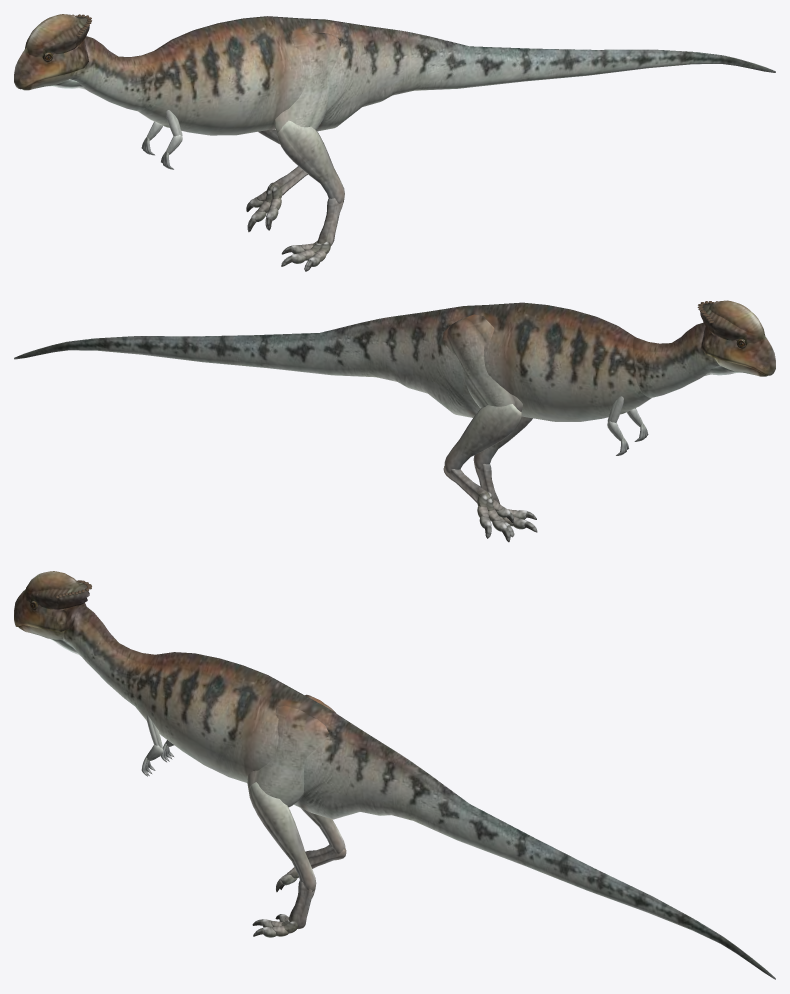
3 views of the same model, one above another, from view 1: azimuth 30°, elevation 25°; view 2: azimuth 150°, elevation 25°; view 3: azimuth 330°, elevation 25° (orthographic).
Visible parts, largest first — view 1: Component_16, Component_17, Component_15, Component_20, Component_21, Component_5, Component_22 (×2), SimpleDome02, Component_1; view 2: Component_16, Component_17, Component_15, Component_20, Component_21 (×2), Component_5, SimpleDome02, Component_22 (×2), Component_1; view 3: Component_16, Component_17, Component_20, Component_15, Component_21, Component_5, Component_1, SimpleDome02.
Boxes of the visible parts, left/top/right/bottom form: Component_16: left=138, top=16, right=401, bottom=135; Component_17: left=383, top=30, right=775, bottom=100; Component_15: left=70, top=36, right=157, bottom=111; Component_20: left=274, top=32, right=341, bottom=133; Component_21: left=277, top=120, right=344, bottom=203; Component_5: left=14, top=40, right=88, bottom=89; Component_22 (×2): left=269, top=166, right=343, bottom=245; SimpleDome02: left=26, top=14, right=80, bottom=56; Component_1: left=26, top=18, right=89, bottom=53; Component_16: left=388, top=302, right=651, bottom=421; Component_17: left=14, top=317, right=406, bottom=386; Component_15: left=632, top=322, right=719, bottom=397; Component_20: left=442, top=314, right=522, bottom=411; Component_21 (×2): left=444, top=404, right=532, bottom=472; Component_5: left=701, top=326, right=775, bottom=375; SimpleDome02: left=709, top=301, right=763, bottom=343; Component_22 (×2): left=443, top=464, right=499, bottom=503; Component_1: left=700, top=304, right=763, bottom=340; Component_16: left=134, top=652, right=400, bottom=819; Component_17: left=378, top=755, right=775, bottom=979; Component_20: left=247, top=705, right=329, bottom=807; Component_15: left=62, top=604, right=154, bottom=705; Component_21: left=248, top=782, right=316, bottom=891; Component_5: left=14, top=589, right=79, bottom=631; Component_1: left=26, top=587, right=89, bottom=609; SimpleDome02: left=24, top=572, right=79, bottom=605.
Bounding box in the file's own units: 105 × 13.21 × 38.62.
3 materials, 2 textured.
